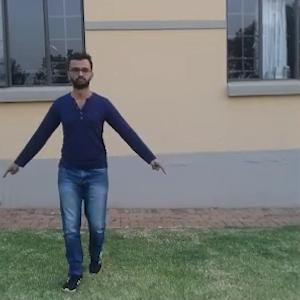land: (15, 65, 149, 251)
